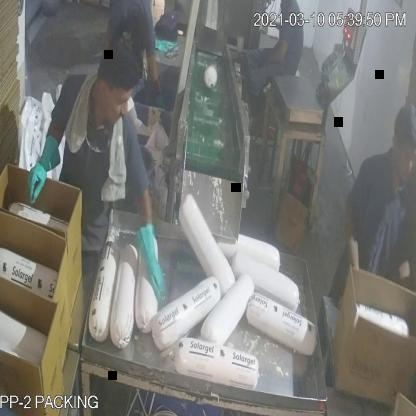glove: (21, 134, 65, 207), (137, 224, 171, 311)
no_glove: (335, 191, 368, 287), (390, 238, 414, 308)
